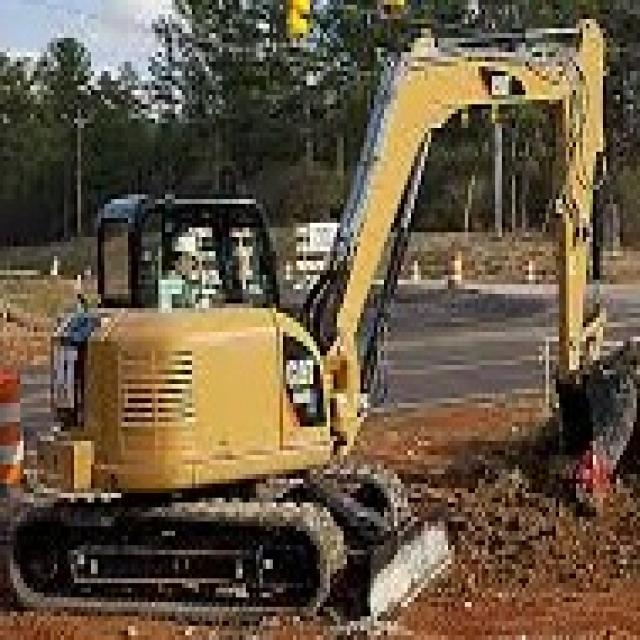excavator: (15, 155, 459, 636)
